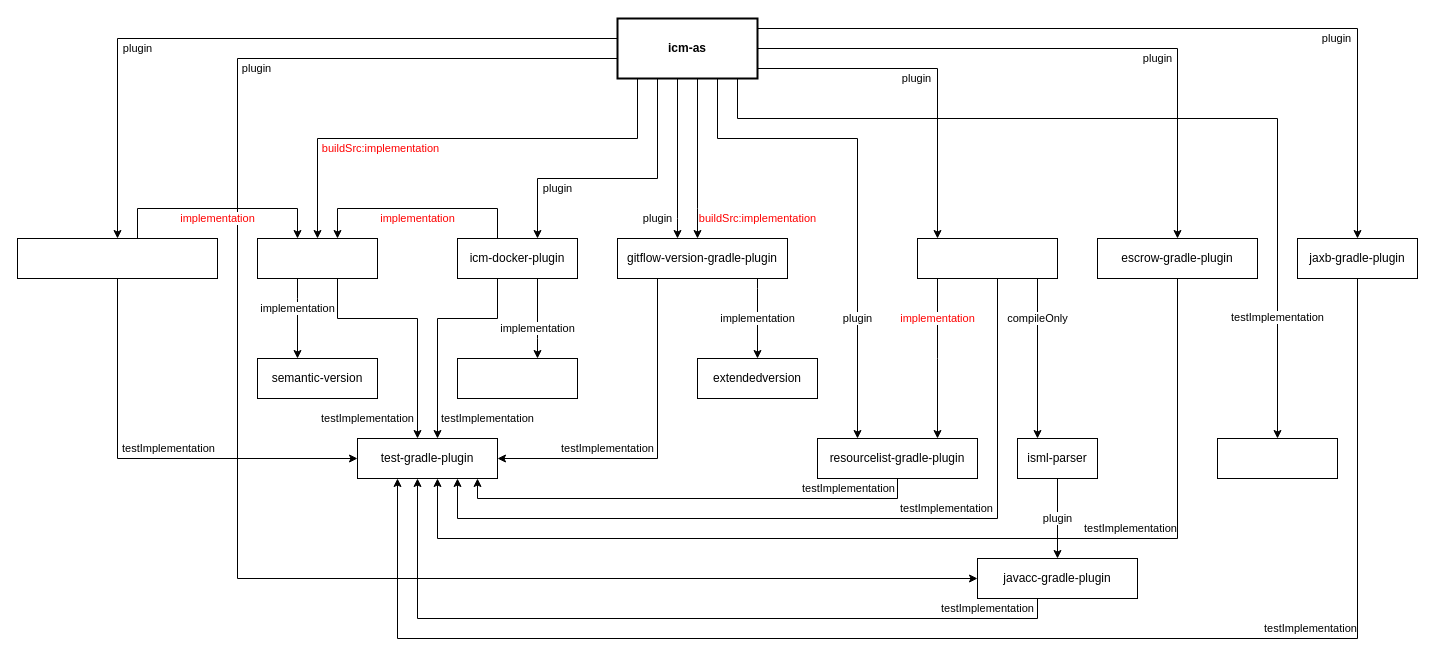
Some shapes in this 1435 by 664 pixel diagram are drawn without their labels. Here are the shapes that lost their labels. From the top down, the centre of each, then its label:
At (x=117, y=258): "architectural-report-gradle-plugin".
At (x=317, y=258): "icm-gradle-plugin".
At (x=987, y=258): "isml-gradle-plugin".
At (x=517, y=378): "icmjobrunner".
At (x=1277, y=458): "rest-test-client".
